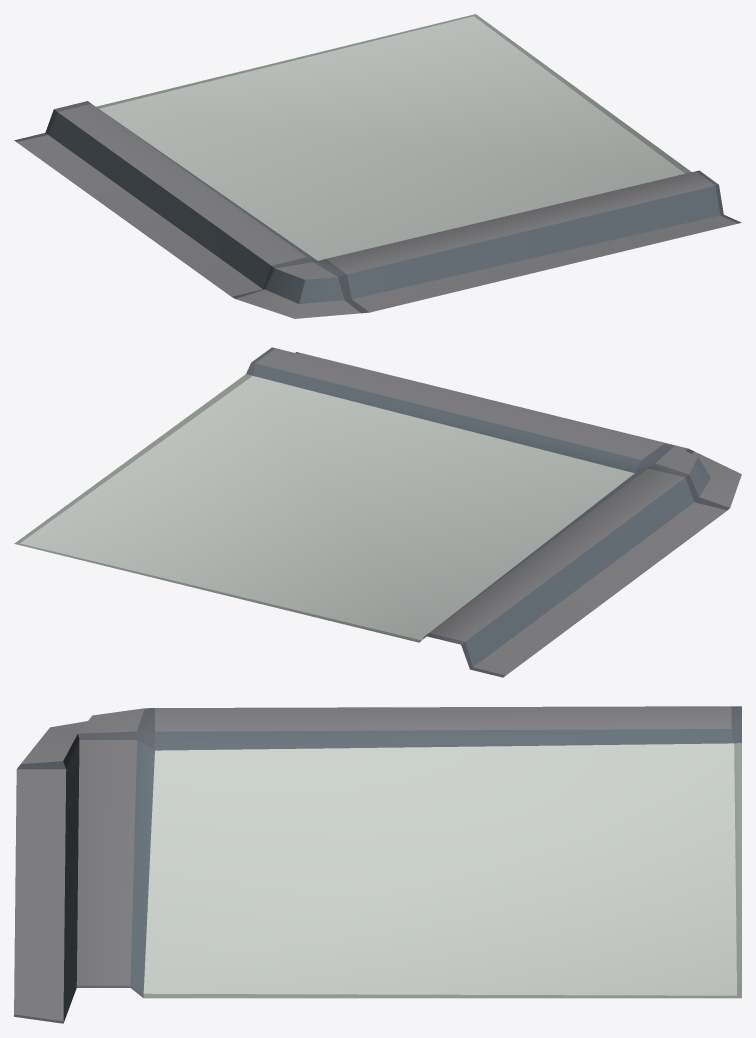
File: Tile_02.fbx
3 renders of one model, top to bottom at view 1: azimuth 30°, elevation 25°; view 2: azimuth 150°, elevation 25°; view 3: azimuth 270°, elevation 25°, orthographic. The views are drawn at different scales.
Visible parts, largest first — view 1: Tile_02; view 2: Tile_02; view 3: Tile_02.
Part boxes in pixels (x1=…): Tile_02: x1=14, y1=14, x2=741, y2=318; Tile_02: x1=14, y1=347, x2=741, y2=677; Tile_02: x1=14, y1=706, x2=741, y2=1023.
Size of the model in its own units: 2.37 by 0.13 by 2.37.
Materials: 1 (1 with a texture image).
